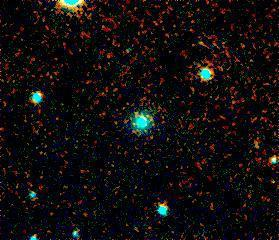star: (242, 131, 272, 161)
